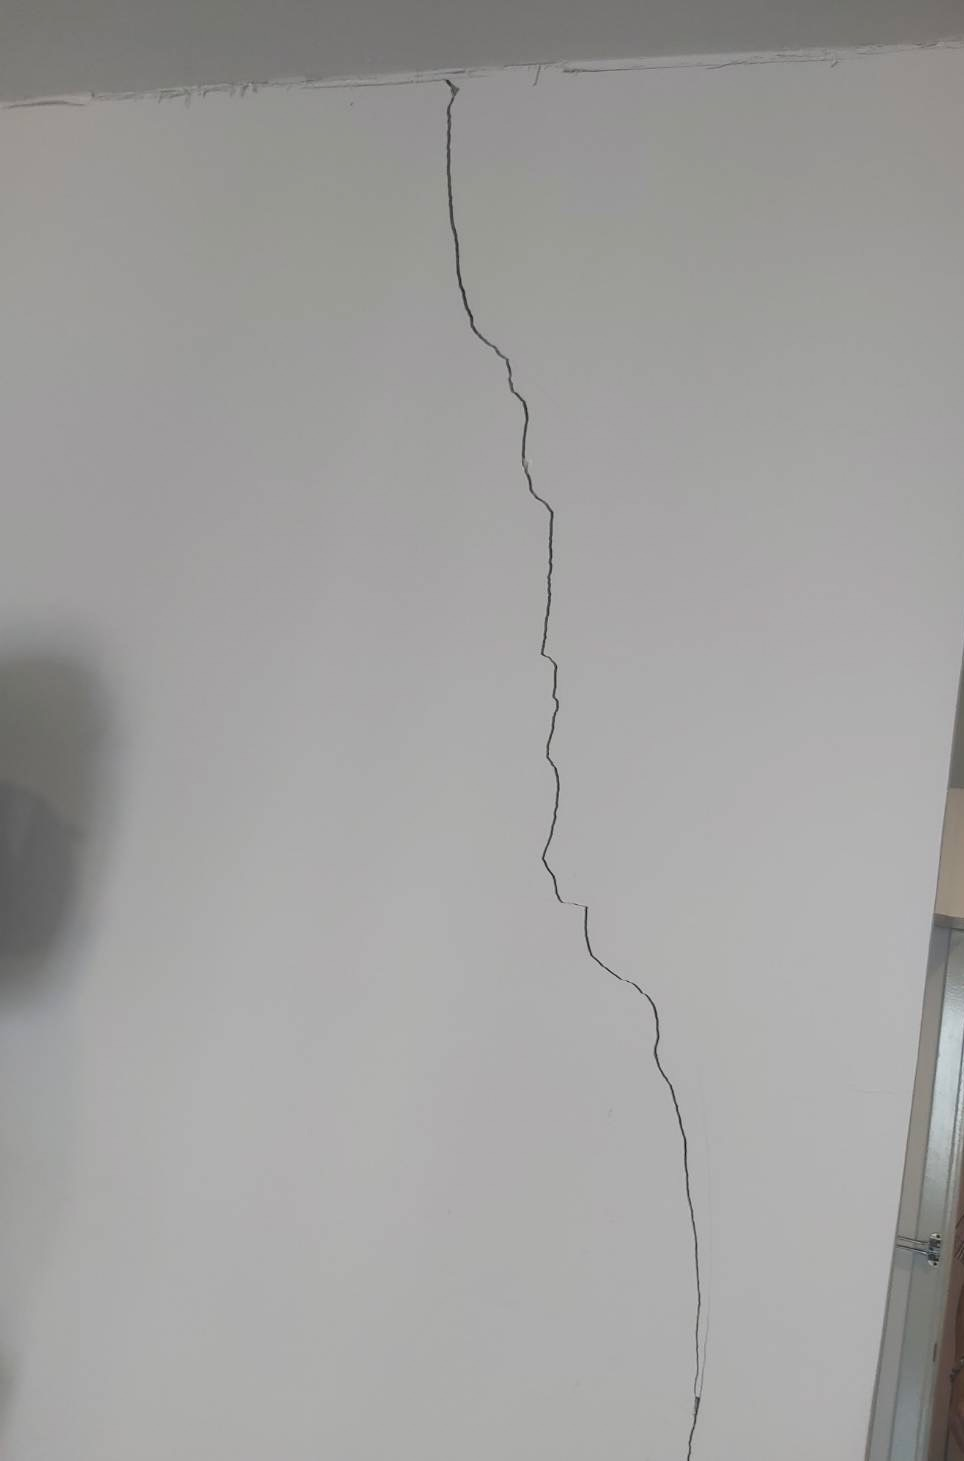Low: (393, 77, 753, 1461)
